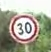limite 30: (8, 12, 40, 43)
